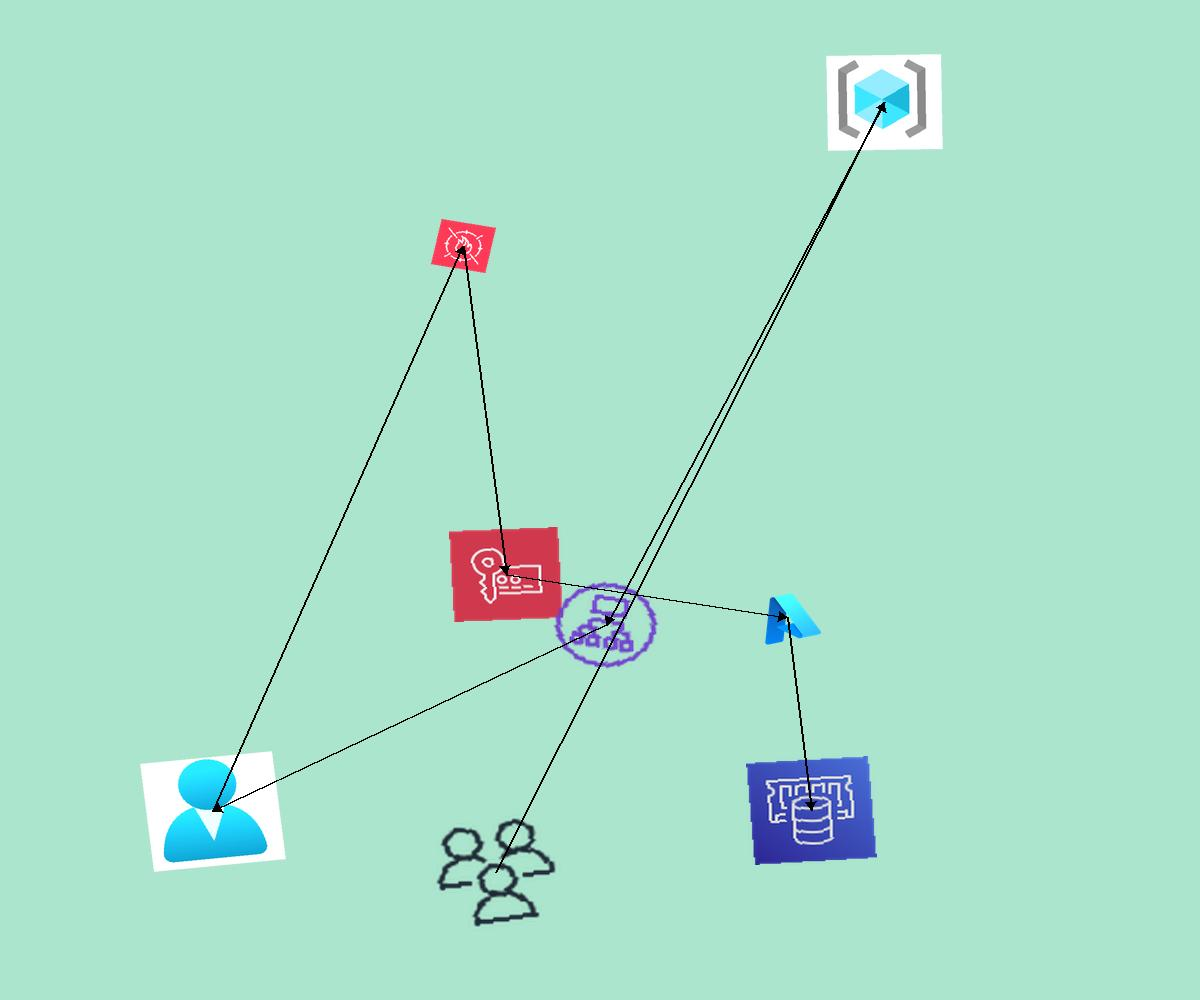AWS-ElastiCache: (746, 756, 877, 865)
AWS-Key-Management-Service: (449, 527, 563, 622)
AWS-Res_Elastic-Load-Balancing_Application-Load-Balancer: (540, 570, 672, 680)
AWS-Res_Users: (421, 810, 571, 935)
AWS-WAF: (431, 219, 496, 273)
Azure_resource_group: (826, 54, 943, 151)
Azure_services: (750, 586, 825, 649)
Azure_users: (140, 751, 286, 872)
